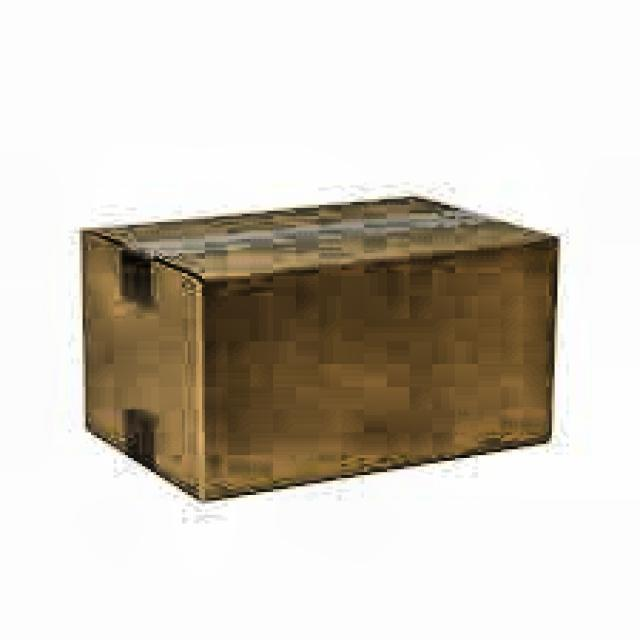cardboard: (77, 191, 560, 504)
